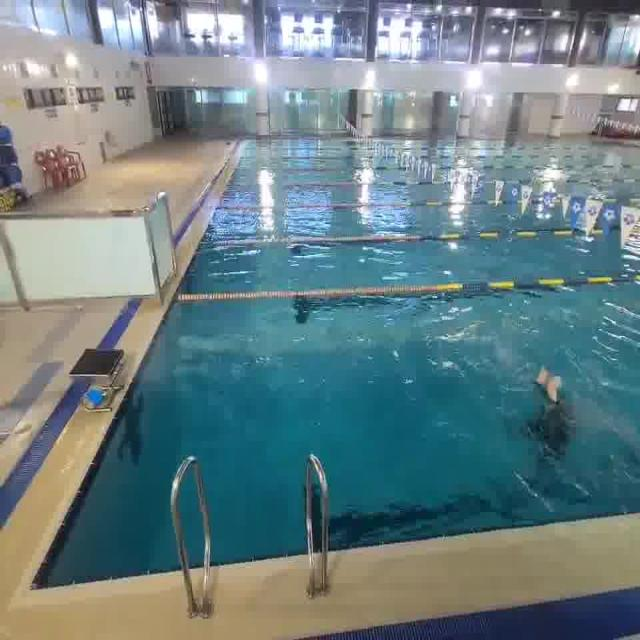Drowning: (501, 341, 598, 466)
